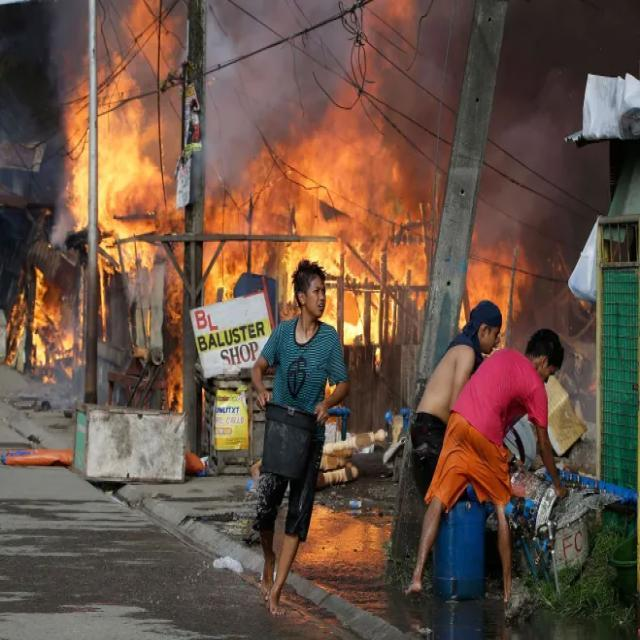Fire: (62, 53, 176, 303), (18, 264, 81, 383), (111, 0, 191, 83)
Smoke: (413, 11, 574, 256), (256, 35, 416, 256), (202, 12, 312, 131)
